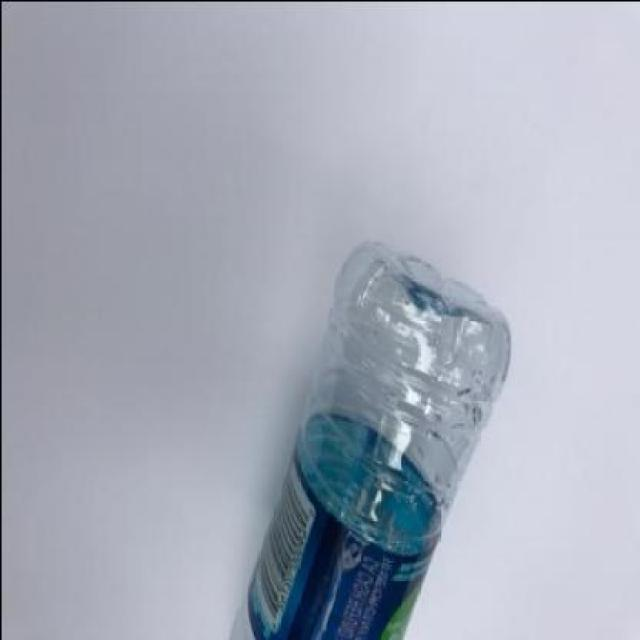PLASTIC: (232, 237, 510, 638), (246, 410, 442, 638)
